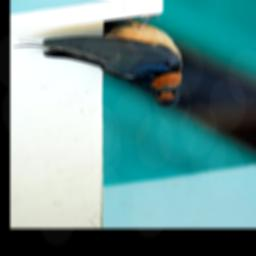Swallow: (13, 16, 187, 113)
